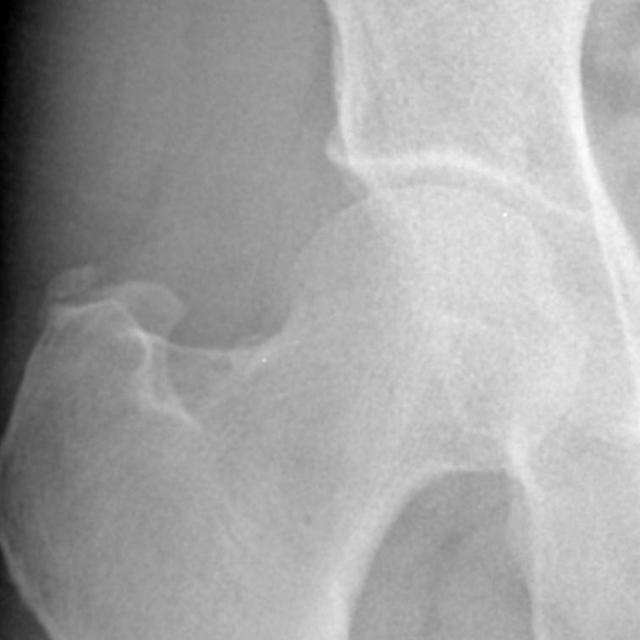Fitted_femural_head: (316, 179, 432, 316)
